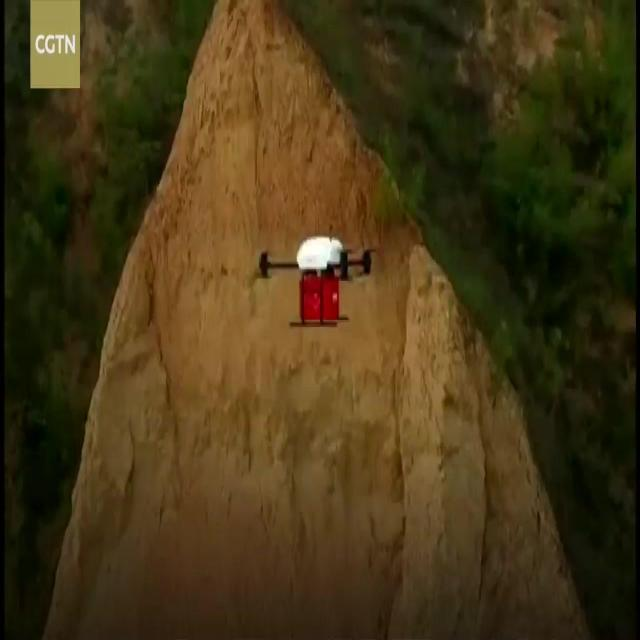drone: (250, 234, 383, 334)
